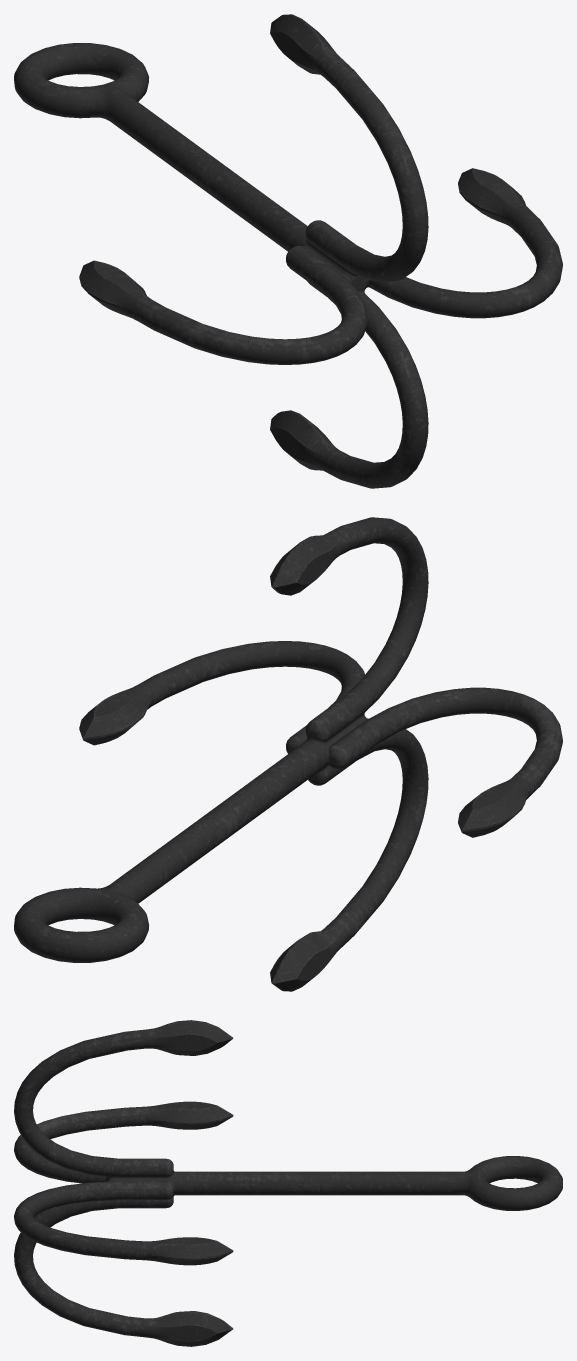
The model's file is grappling_hook.glb.
3 views of the same model, one above another, from view 1: azimuth 30°, elevation 25°; view 2: azimuth 150°, elevation 25°; view 3: azimuth 270°, elevation 25° (orthographic). The views are drawn at different scales.
Parts seen in each view (by area): view 1: Pipe.001; view 2: Pipe.001; view 3: Pipe.001.
Part boxes in pixels (bbox=[...]): Pipe.001: bbox=[14, 14, 562, 488]; Pipe.001: bbox=[14, 517, 562, 991]; Pipe.001: bbox=[14, 1020, 562, 1346].
Size of the model in its own units: 1.31 by 1.31 by 2.
Materials: 1 (1 with a texture image).
